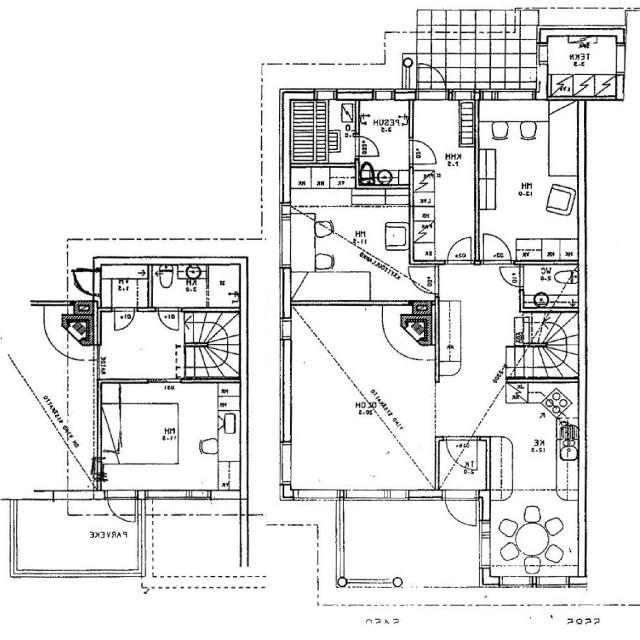door: (446, 489, 476, 531), (418, 60, 446, 100), (447, 437, 478, 472), (108, 490, 135, 527), (408, 266, 440, 294), (484, 232, 512, 263), (70, 271, 102, 295), (616, 44, 640, 72), (409, 140, 437, 164), (448, 236, 471, 264), (356, 136, 380, 156), (159, 308, 179, 332), (500, 267, 524, 286), (115, 308, 134, 331)
